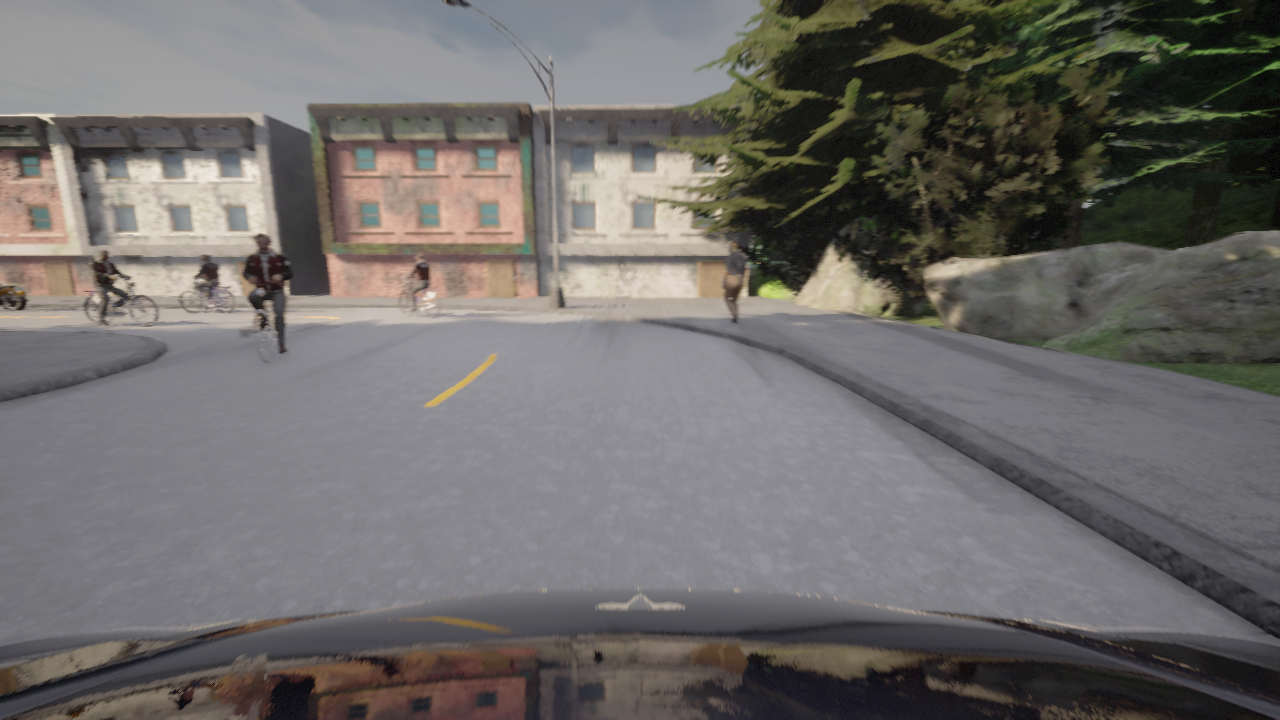cyclist: (0, 588, 1279, 719), (83, 277, 157, 325), (248, 278, 284, 363), (180, 276, 233, 312), (399, 278, 440, 316)
pedestrian: (721, 240, 747, 323)
